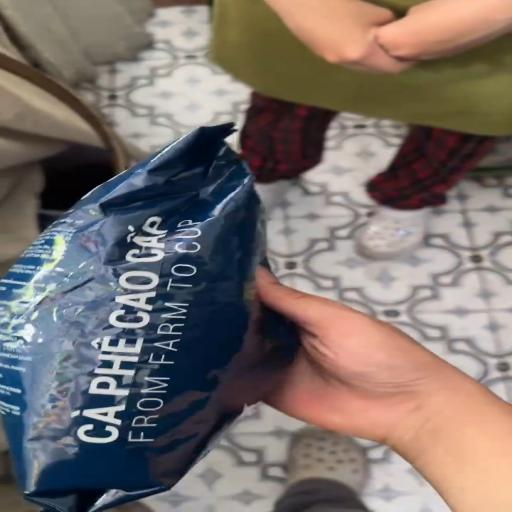cafe_hat: (0, 124, 297, 512)
